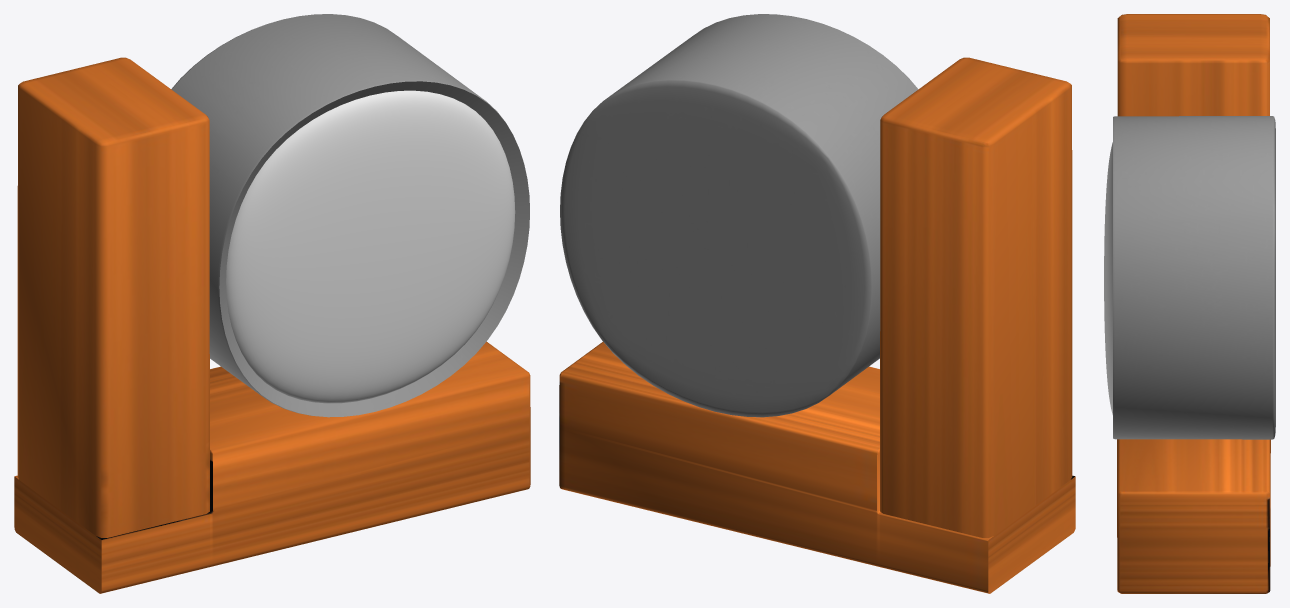
File: MH004_Clock_02.gltf
3 views of the same model, side by side, from view 1: azimuth 30°, elevation 25°; view 2: azimuth 150°, elevation 25°; view 3: azimuth 270°, elevation 25° (orthographic). The views are drawn at different scales.
Visible parts, largest first — view 1: Base, Glass; view 2: Base; view 3: Base, Glass.
Boxes of the visible parts, <box> form: Base: <box>14,14,530,593</box>; Glass: <box>226,90,515,403</box>; Base: <box>559,14,1075,593</box>; Base: <box>1113,14,1275,593</box>; Glass: <box>1104,142,1112,414</box>.
Bounding box in the file's own units: 0.0998 × 0.0996 × 0.0391.
Materials: 2 (1 with a texture image).
